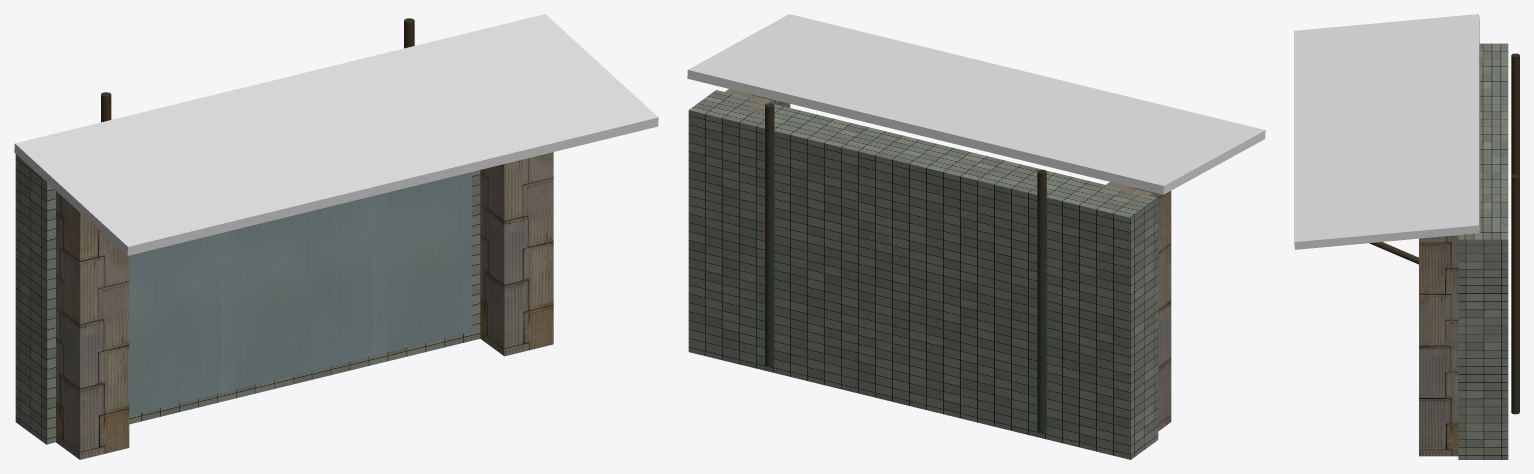
Rendered from NC_Shopfront_LOD1.fbx.
3 views of the same model, side by side, from view 1: azimuth 30°, elevation 25°; view 2: azimuth 150°, elevation 25°; view 3: azimuth 270°, elevation 25° (orthographic). The views are drawn at different scales.
Parts seen in each view (by area): view 1: NC_Shopfront_LOD1; view 2: NC_Shopfront_LOD1; view 3: NC_Shopfront_LOD1.
Part boxes in pixels (x1,y1,x2,y2): NC_Shopfront_LOD1: [14, 14, 658, 459]; NC_Shopfront_LOD1: [687, 14, 1265, 459]; NC_Shopfront_LOD1: [1294, 14, 1519, 459].
Size of the model in its own units: 700 by 380 by 316.
